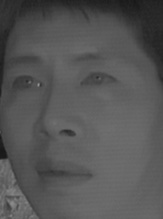eye: (78, 68, 117, 94), (10, 73, 46, 97)
mouth: (35, 155, 96, 192)
